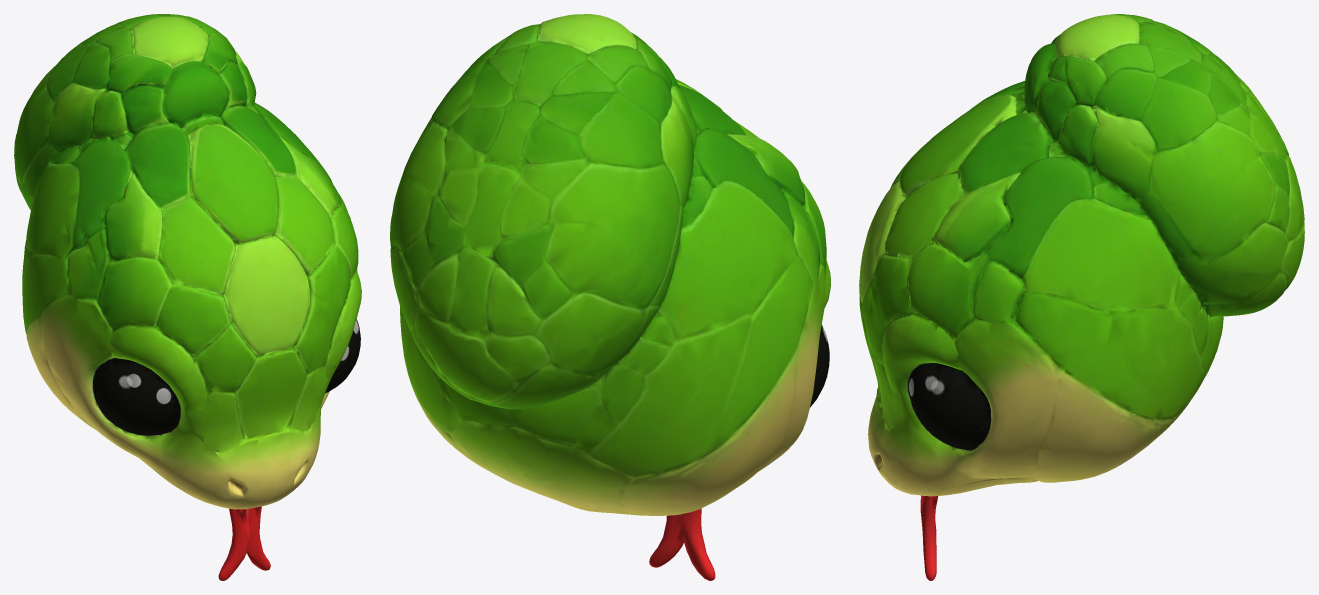
Rendered from head.glb.
The picture shows the model from 3 angles, left to right: view 1: azimuth 30°, elevation 25°; view 2: azimuth 150°, elevation 25°; view 3: azimuth 270°, elevation 25°; orthographic projection. The views are drawn at different scales.
Bounding box in the file's own units: 1.19 × 1.9 × 1.41.
1 material, 1 textured.
